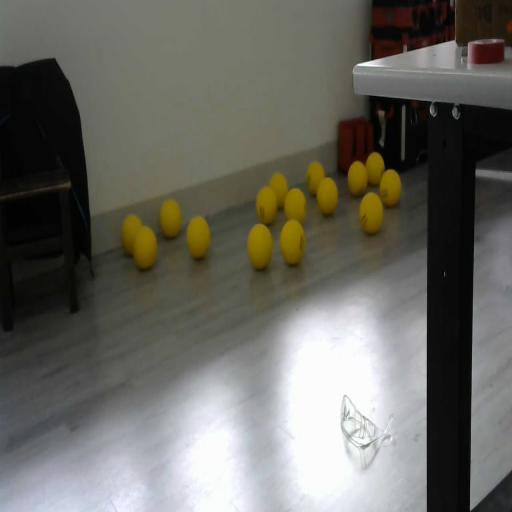FUEL: (246, 221, 274, 270), (278, 218, 306, 266), (132, 224, 158, 270), (185, 215, 211, 260), (359, 191, 383, 234), (159, 198, 182, 238), (284, 187, 307, 225), (316, 176, 338, 215), (379, 169, 402, 206), (347, 160, 368, 196), (268, 172, 288, 208), (365, 150, 385, 186)
